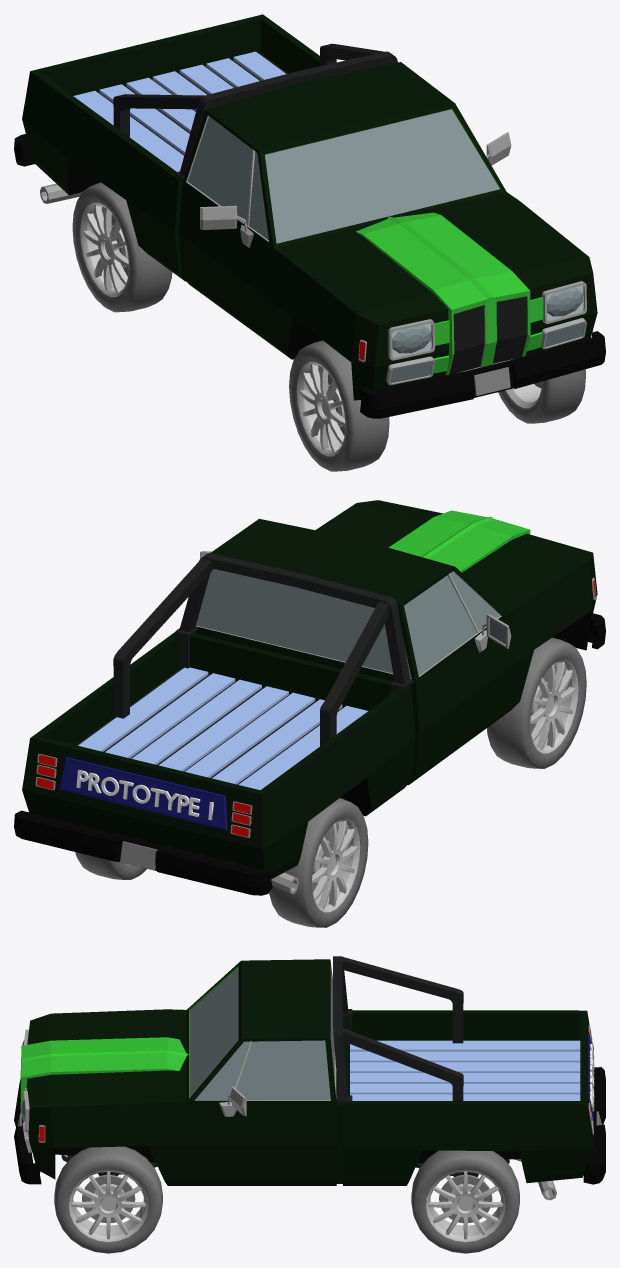
The model's file is Prototype1.fbx.
3 views of the same model, one above another, from view 1: azimuth 30°, elevation 25°; view 2: azimuth 150°, elevation 25°; view 3: azimuth 270°, elevation 25° (orthographic). The views are drawn at different scales.
Visible parts, largest first — view 1: CarBodyParts, FrontLeft.001, BackRight, FrontLeft; view 2: CarBodyParts, FrontLeft.001, BackRight, BackLeft; view 3: CarBodyParts, FrontLeft, BackLeft.
Part boxes in pixels (x1=…): CarBodyParts: x1=14, y1=14, x2=605, y2=418; FrontLeft.001: x1=289, y1=340, x2=389, y2=471; BackRight: x1=72, y1=182, x2=172, y2=312; FrontLeft: x1=498, y1=369, x2=585, y2=423; CarBodyParts: x1=14, y1=500, x2=605, y2=895; FrontLeft.001: x1=487, y1=637, x2=586, y2=768; BackRight: x1=269, y1=798, x2=368, y2=927; BackLeft: x1=75, y1=852, x2=146, y2=879; CarBodyParts: x1=14, y1=956, x2=605, y2=1200; FrontLeft: x1=54, y1=1146, x2=162, y2=1253; BackLeft: x1=411, y1=1150, x2=519, y2=1253.
Bounding box in the file's own units: 242 × 197 × 486.
